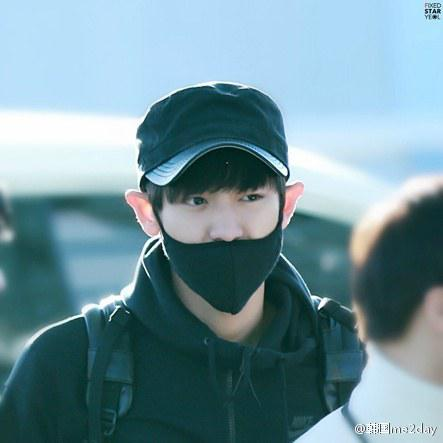WRONG: (157, 166, 285, 312)
